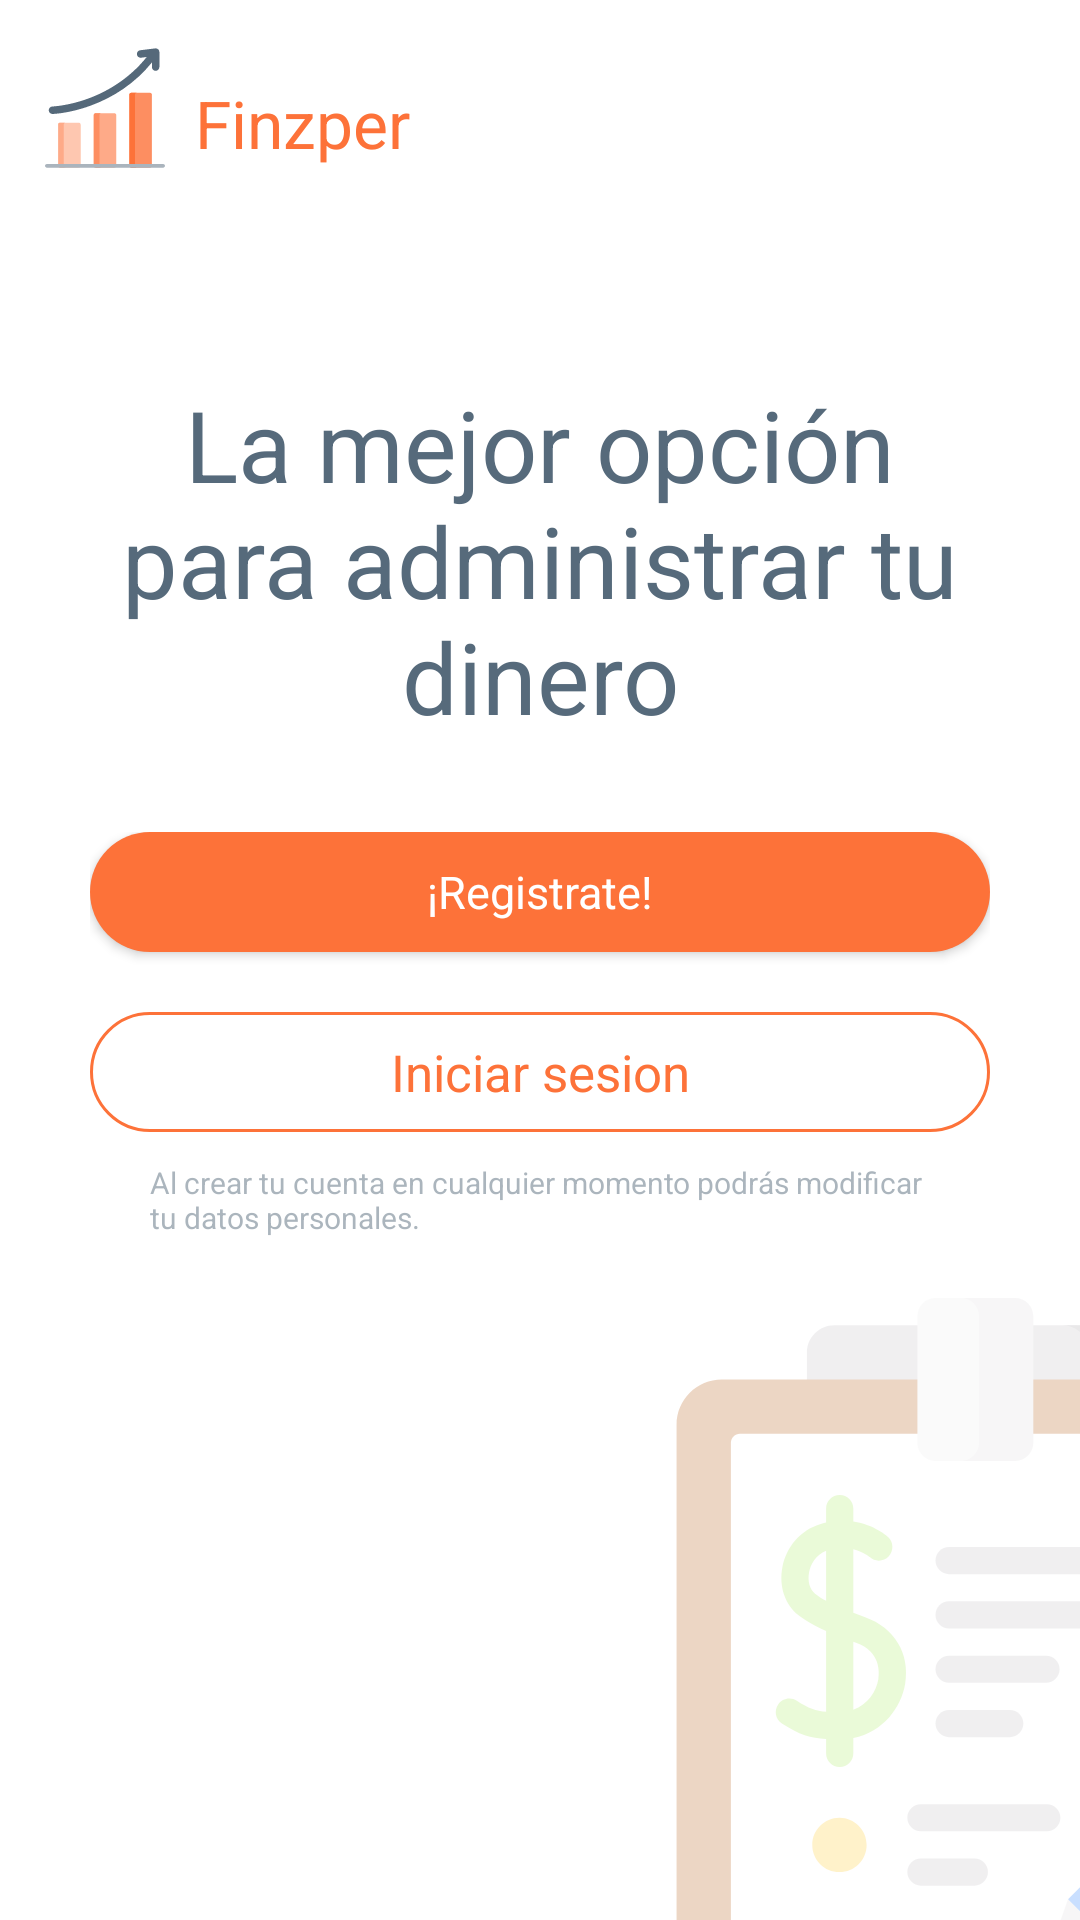

Screen size 1080×1920. Icon name, then its center in pixels as (x,y):
estadisticas: (105,108)
